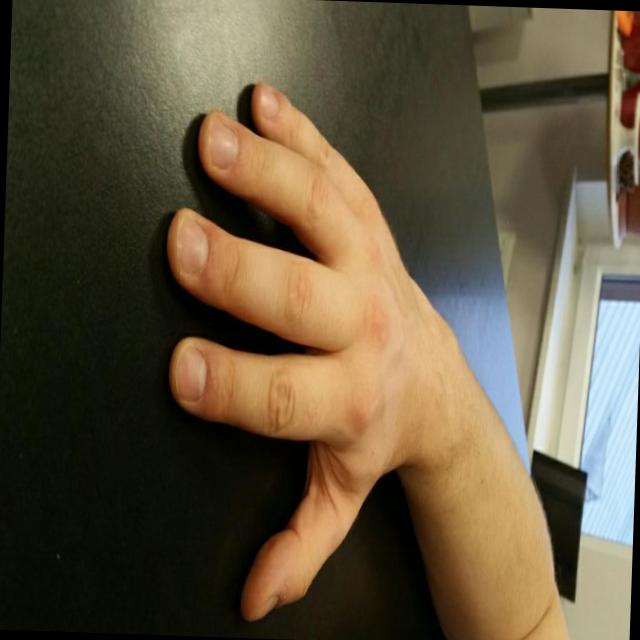Nail: (174, 343, 205, 402), (175, 215, 206, 274), (207, 116, 237, 168), (259, 83, 277, 119), (252, 596, 277, 619)
